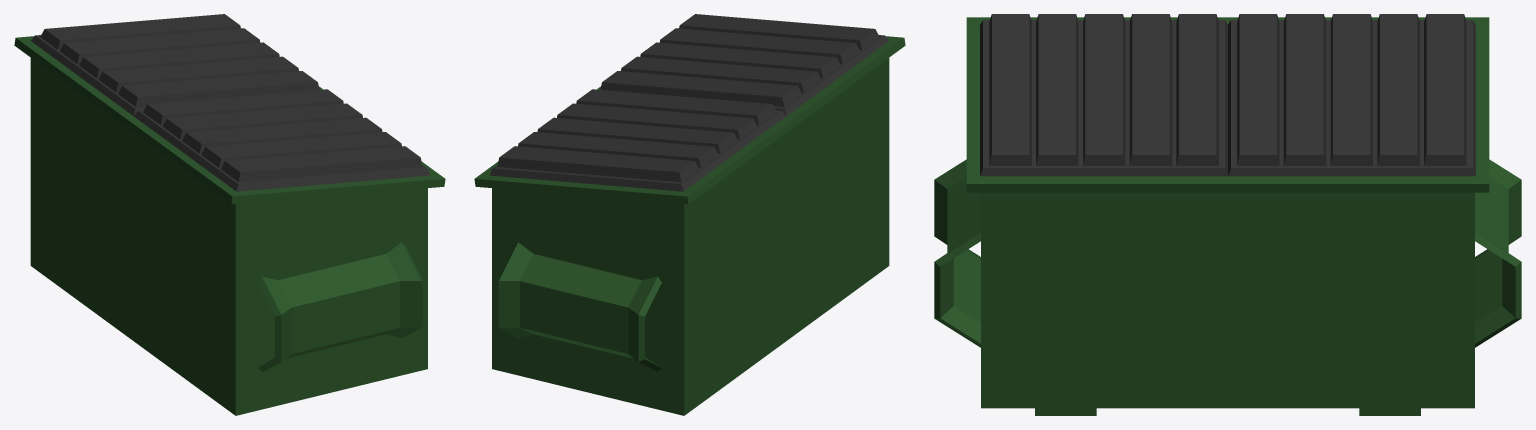
File: TreshCan4_2.fbx
The picture shows the model from 3 angles, left to right: view 1: azimuth 30°, elevation 25°; view 2: azimuth 150°, elevation 25°; view 3: azimuth 270°, elevation 25°; orthographic projection. The views are drawn at different scales.
Visible parts, largest first — view 1: TreshCan3.001; view 2: TreshCan3.001; view 3: TreshCan3.001.
Boxes of the visible parts, x1,y1,x2,y2 form: TreshCan3.001: [14, 14, 445, 415]; TreshCan3.001: [474, 14, 905, 415]; TreshCan3.001: [934, 14, 1521, 415].
Size of the model in its own units: 145 by 164 by 285.
